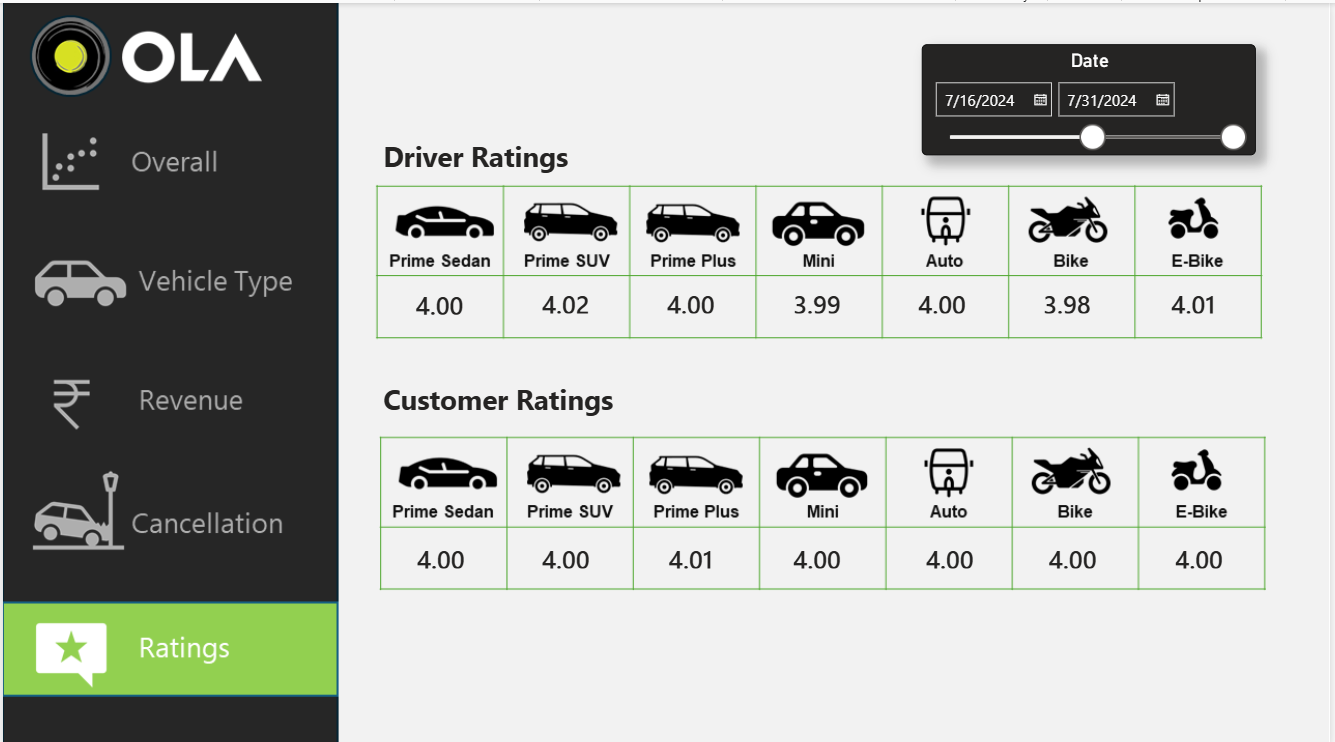

Layout of this report page (visuals, bound fields, positions):
{"tool":"powerbi","page":{"name":"Ratings","canvas":[1280,720],"ordinal":4},"visuals":[{"type":"actionButton","box":[0,111,323.3,90.5],"z":0},{"type":"actionButton","box":[0,228,323.3,90.5],"z":1},{"type":"actionButton","box":[0,331.8,323.3,90.5],"z":2},{"type":"actionButton","box":[0,445.2,323.3,90.5],"z":3},{"type":"cardVisual","fields":{"Data":["Avg(July.Driver_Ratings)"]},"box":[361,263,121.2,55.4],"z":4},{"type":"cardVisual","fields":{"Data":["Avg(July.Driver_Ratings)"]},"box":[482.6,262.3,121,55.9],"z":5},{"type":"cardVisual","fields":{"Data":["Avg(July.Driver_Ratings)"]},"box":[603.7,262.3,121,55.9],"z":6},{"type":"cardVisual","fields":{"Data":["Avg(July.Driver_Ratings)"]},"box":[724.7,262.3,121,55.9],"z":7},{"type":"cardVisual","fields":{"Data":["Avg(July.Driver_Ratings)"]},"box":[845.8,262.3,121,55.9],"z":8},{"type":"cardVisual","fields":{"Data":["Avg(July.Driver_Ratings)"]},"box":[966.8,262.3,121,55.9],"z":9},{"type":"cardVisual","fields":{"Data":["Avg(July.Driver_Ratings)"]},"box":[1087.9,262.3,121,55.9],"z":10},{"type":"textbox","box":[361.6,124.2,211.1,45],"z":12},{"type":"textbox","box":[361.6,360,263.8,141.2],"z":13},{"type":"cardVisual","fields":{"Data":["Avg(July.Customer_Rating)"]},"box":[361.6,507.5,121,55.9],"z":14},{"type":"cardVisual","fields":{"Data":["Avg(July.Customer_Rating)"]},"box":[1100.3,507.5,108.6,55.9],"z":15},{"type":"cardVisual","fields":{"Data":["Avg(July.Customer_Rating)"]},"box":[977.7,507.5,110.2,55.9],"z":16},{"type":"cardVisual","fields":{"Data":["Avg(July.Customer_Rating)"]},"box":[859.8,507.5,107.1,55.9],"z":17},{"type":"cardVisual","fields":{"Data":["Avg(July.Customer_Rating)"]},"box":[724.7,507.5,121,55.9],"z":18},{"type":"cardVisual","fields":{"Data":["Avg(July.Customer_Rating)"]},"box":[603.7,507.5,121,55.9],"z":19},{"type":"cardVisual","fields":{"Data":["Avg(July.Customer_Rating)"]},"box":[482.6,507.5,121,55.9],"z":20},{"type":"slicer","title":"Date","fields":{"Values":["July.Date"]},"box":[886.1,40.3,322.8,107.1],"z":21}]}

Visuals, with their boxes on the page's 1280x720 design canvas (x1, y1, x2, y2). These are canvas units, not pixel positions in the 1335x742 screenshot, which may show the page scaled, cropped or inside an application window:
actionButton: 0,111,323,202
actionButton: 0,228,323,318
actionButton: 0,332,323,422
actionButton: 0,445,323,536
cardVisual - Avg(July.Driver_Ratings): 361,263,482,318
cardVisual - Avg(July.Driver_Ratings): 483,262,604,318
cardVisual - Avg(July.Driver_Ratings): 604,262,725,318
cardVisual - Avg(July.Driver_Ratings): 725,262,846,318
cardVisual - Avg(July.Driver_Ratings): 846,262,967,318
cardVisual - Avg(July.Driver_Ratings): 967,262,1088,318
cardVisual - Avg(July.Driver_Ratings): 1088,262,1209,318
textbox: 362,124,573,169
textbox: 362,360,625,501
cardVisual - Avg(July.Customer_Rating): 362,508,483,563
cardVisual - Avg(July.Customer_Rating): 1100,508,1209,563
cardVisual - Avg(July.Customer_Rating): 978,508,1088,563
cardVisual - Avg(July.Customer_Rating): 860,508,967,563
cardVisual - Avg(July.Customer_Rating): 725,508,846,563
cardVisual - Avg(July.Customer_Rating): 604,508,725,563
cardVisual - Avg(July.Customer_Rating): 483,508,604,563
"Date" slicer: 886,40,1209,147
